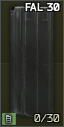SA-58%5FAL 7.62x51 30-round magazine: (0, 0, 64, 127)
